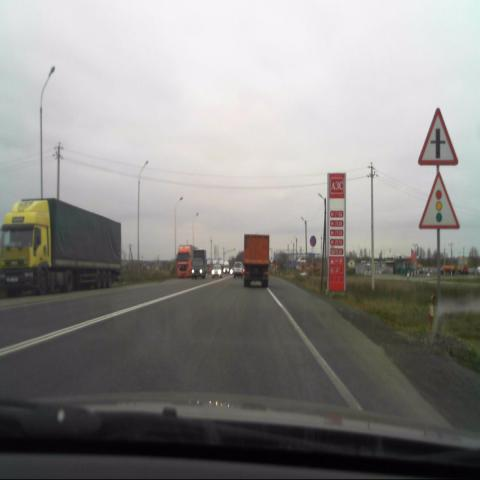2_3: (418, 107, 461, 167)
